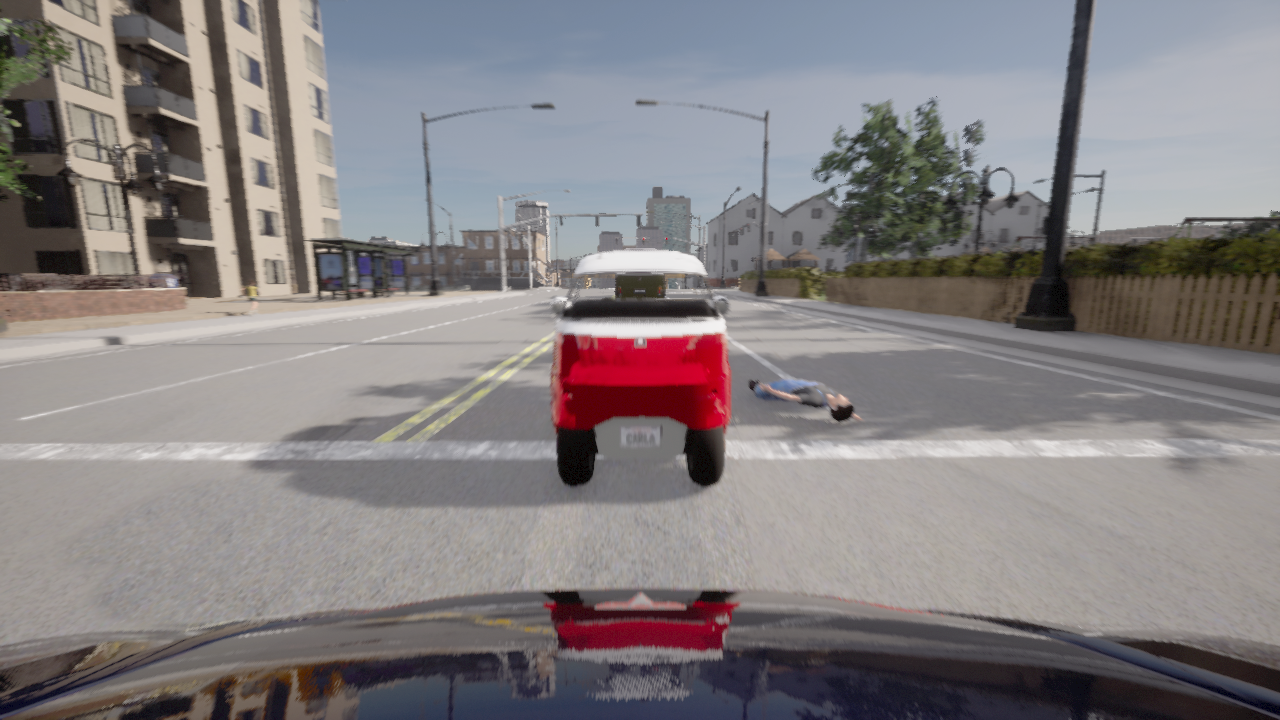cyclist: (0, 588, 1279, 719), (550, 251, 729, 485), (624, 249, 655, 250)
pedestrian: (747, 379, 864, 422), (241, 279, 260, 316)
